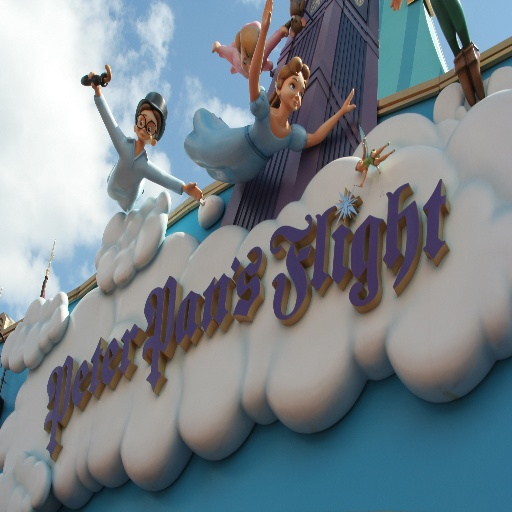hand: (339, 87, 357, 117), (184, 182, 203, 202), (261, 0, 272, 27), (86, 68, 100, 89), (209, 41, 222, 54), (279, 24, 290, 37)
